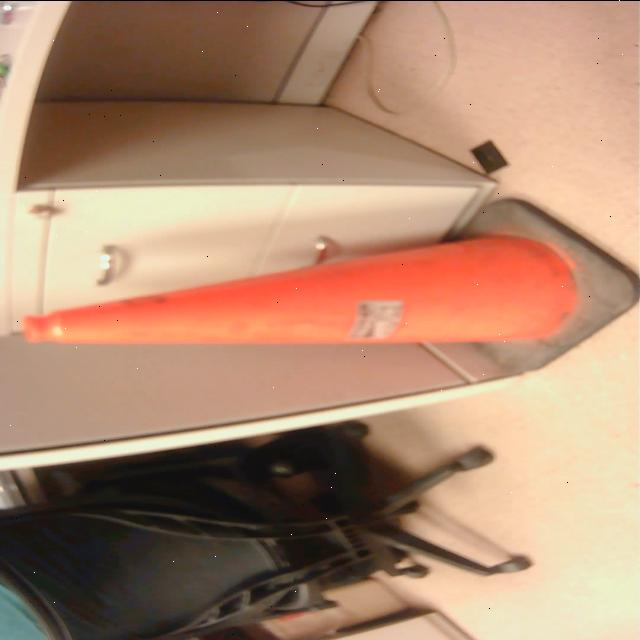traffic cone: (18, 194, 640, 377)
